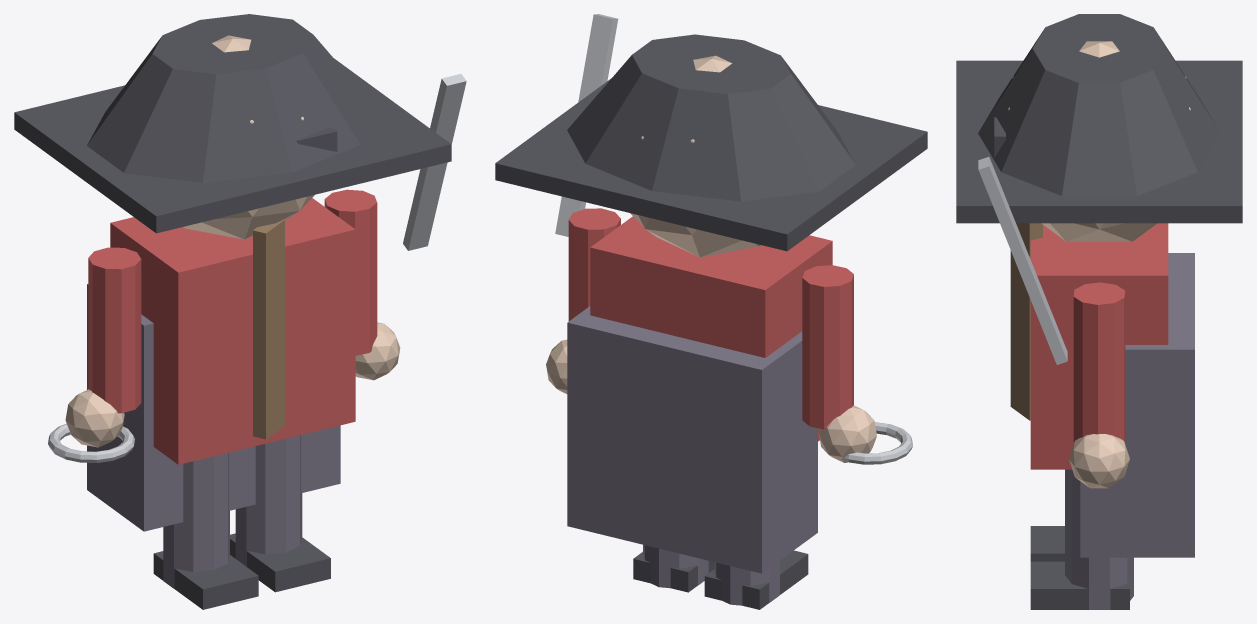
File: pirata.glb
3 renders of one model, left to right at view 1: azimuth 30°, elevation 25°; view 2: azimuth 150°, elevation 25°; view 3: azimuth 270°, elevation 25°, orthographic. The views are drawn at different scales.
Visible parts, largest first — view 1: pirata; view 2: pirata; view 3: pirata.
Part boxes in pixels (box(x1,y1,x2,y2)): pirata: box(14, 14, 466, 609); pirata: box(495, 14, 927, 609); pirata: box(956, 14, 1242, 609).
Bounding box in the file's own units: 1.11 × 1.55 × 0.75.
